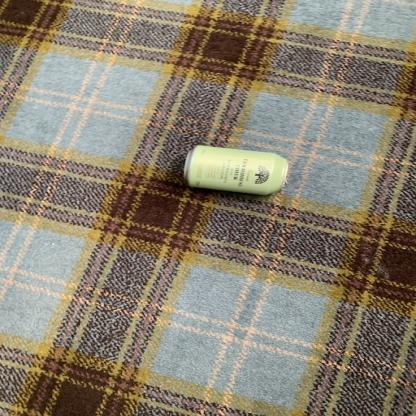trash: (183, 144, 291, 200)
